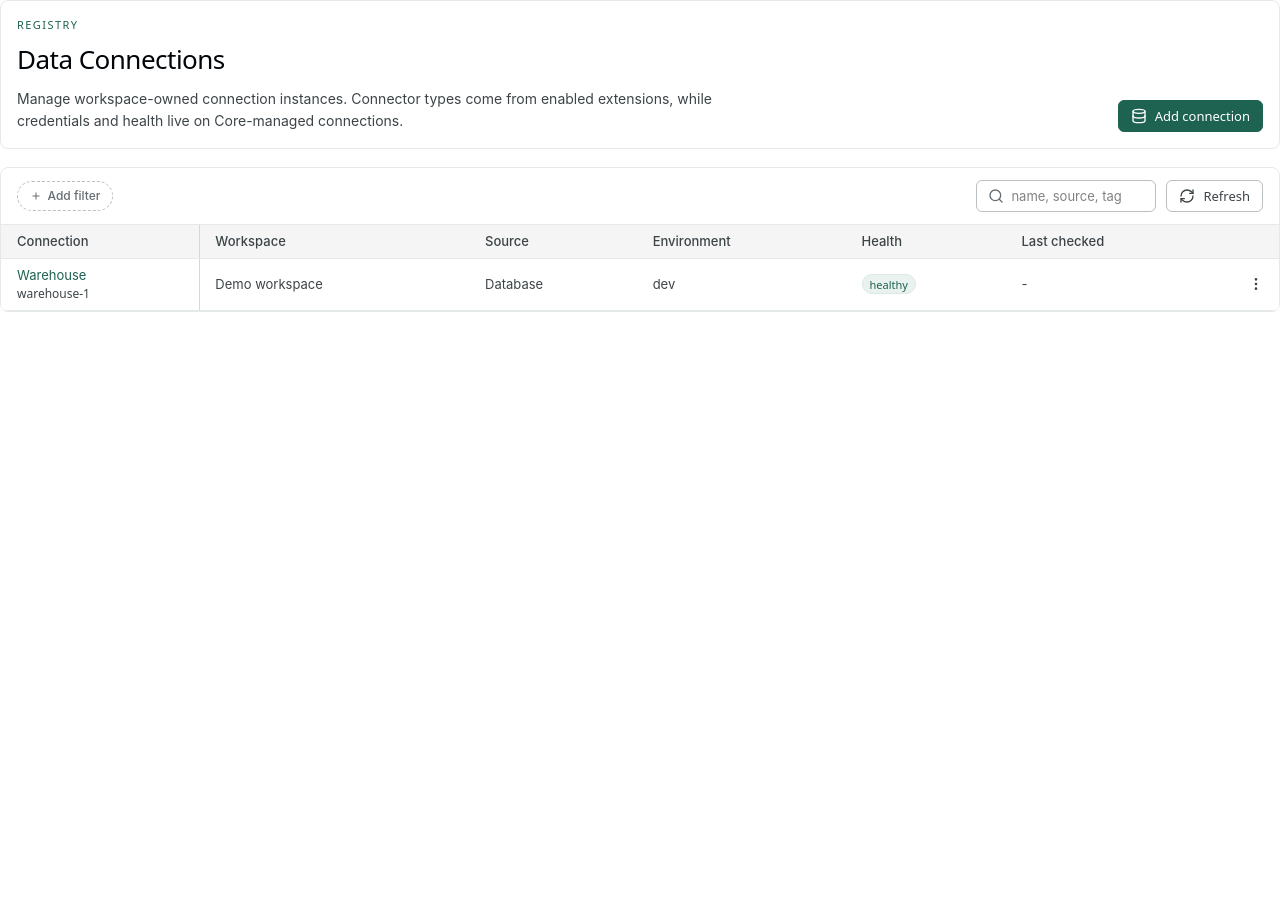
it: Connection page lossless HTTP save and fresh readback › blocks a fractional integer at submit even when browser validity is bypassed
Click the button named "Actions for Warehouse" at (1256, 284), box [1240,268,1272,300]
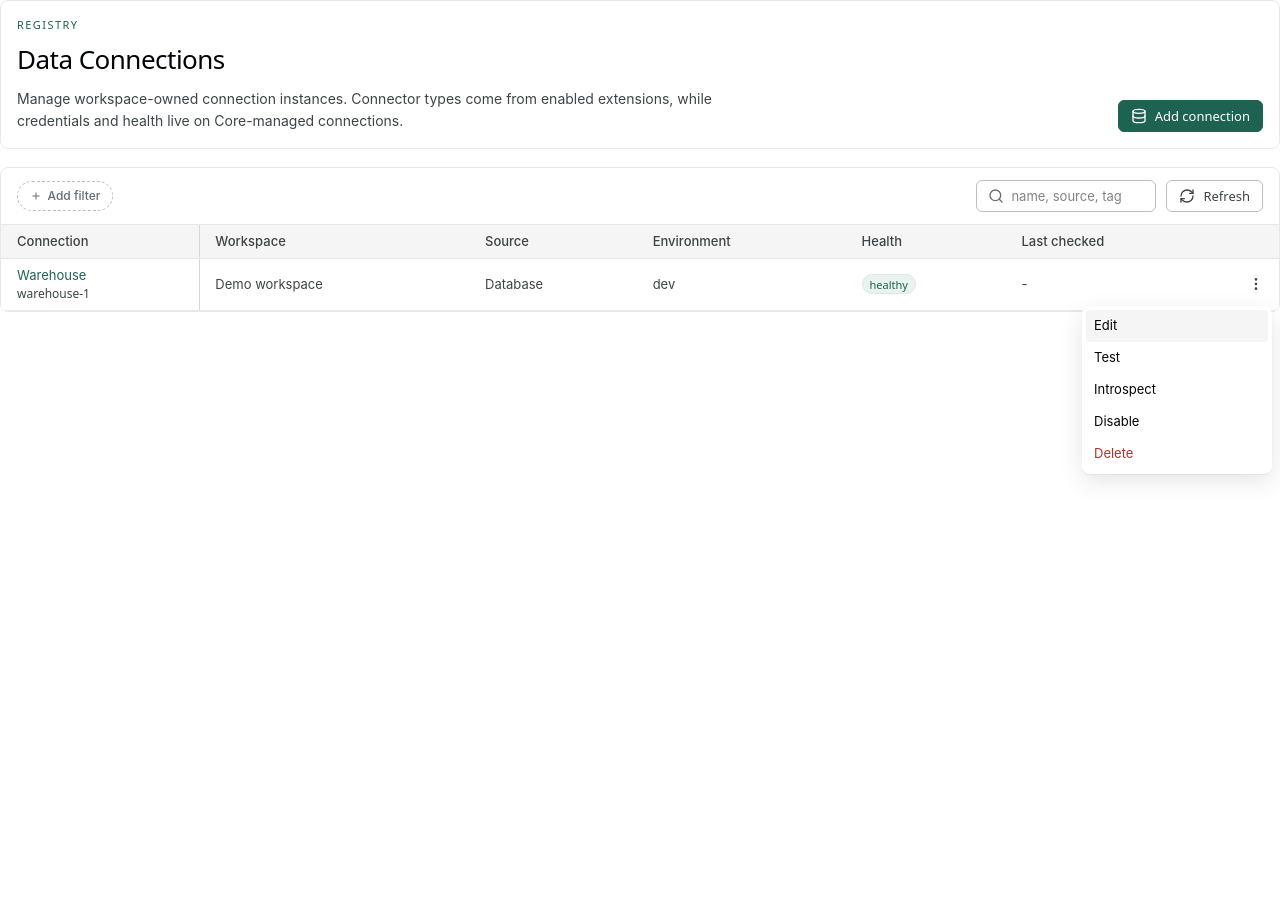
Click the menu item "Edit" at (1177, 326), box [1086,310,1268,342]
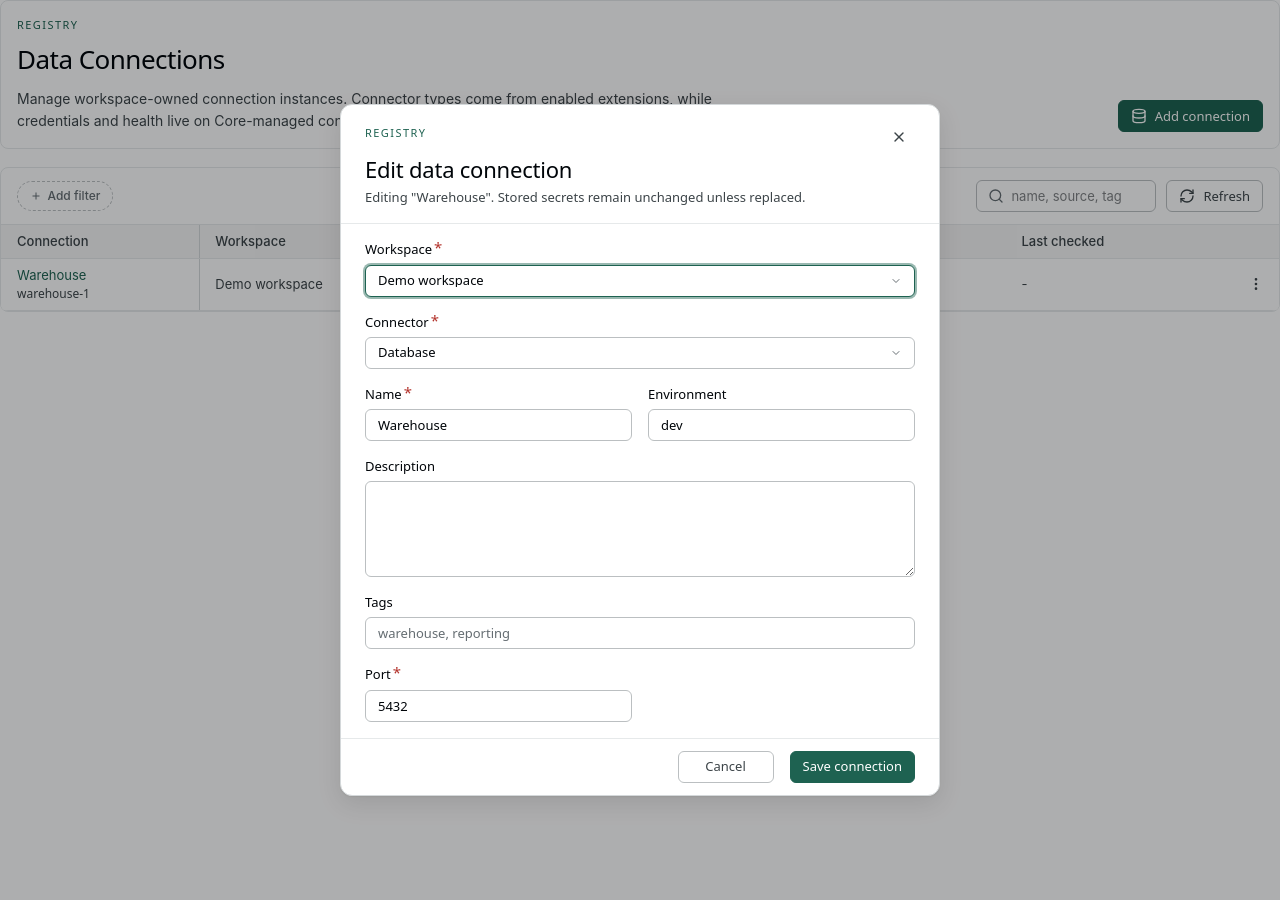
Replace the text in the number field labelled "Port *" with "5432.5" at (498, 706), box [365,690,632,722]
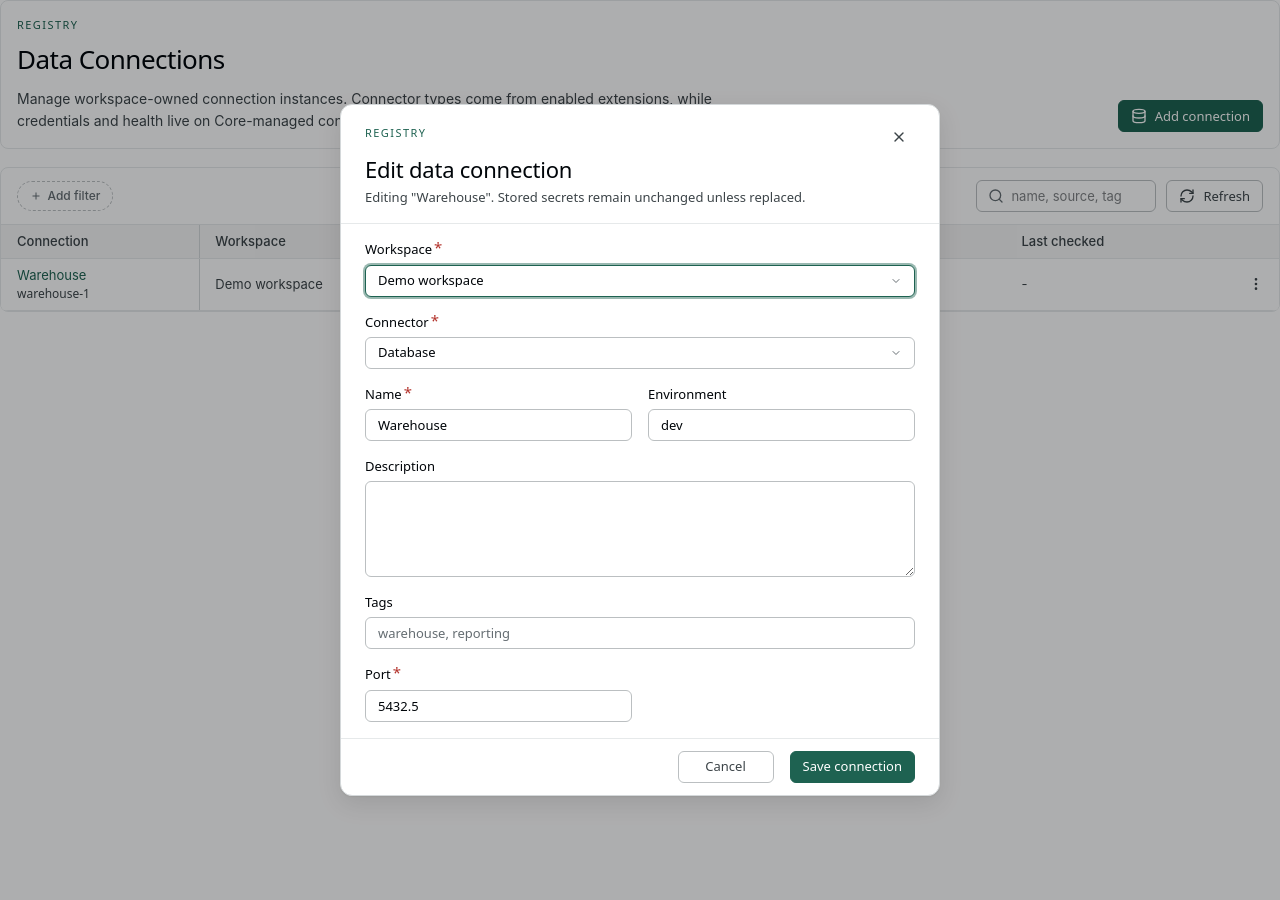
Submit the form from the number field labelled "Port *", box [365,690,632,722]
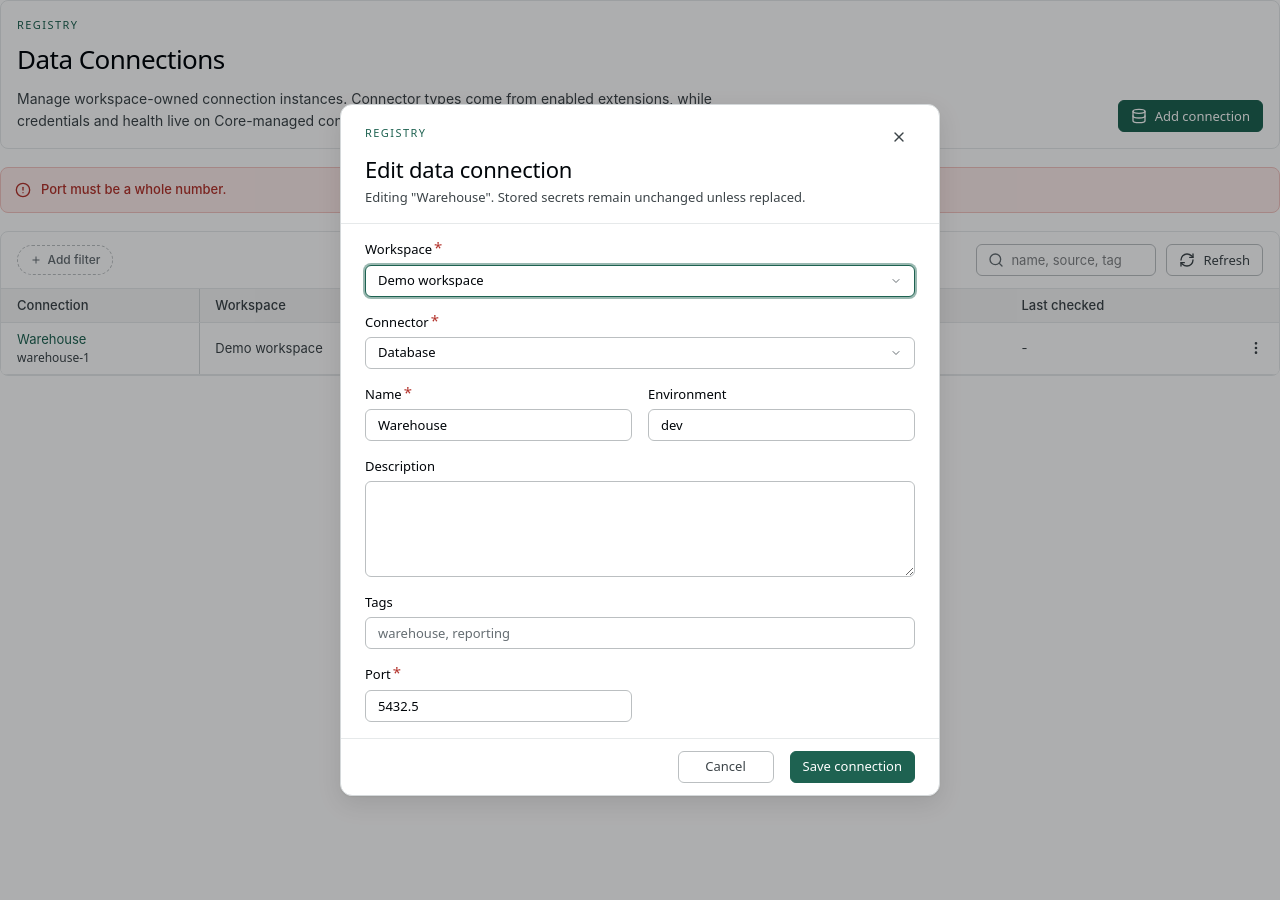
Result: the message "Port must be a whole number." is shown at [0,167,1279,213]
